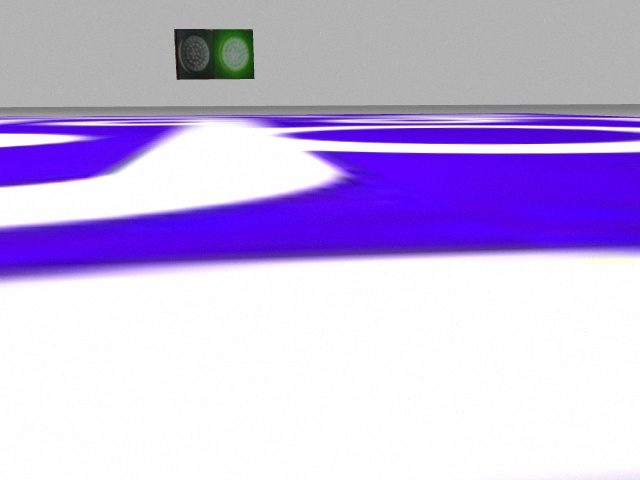green: (213, 30, 254, 79)
